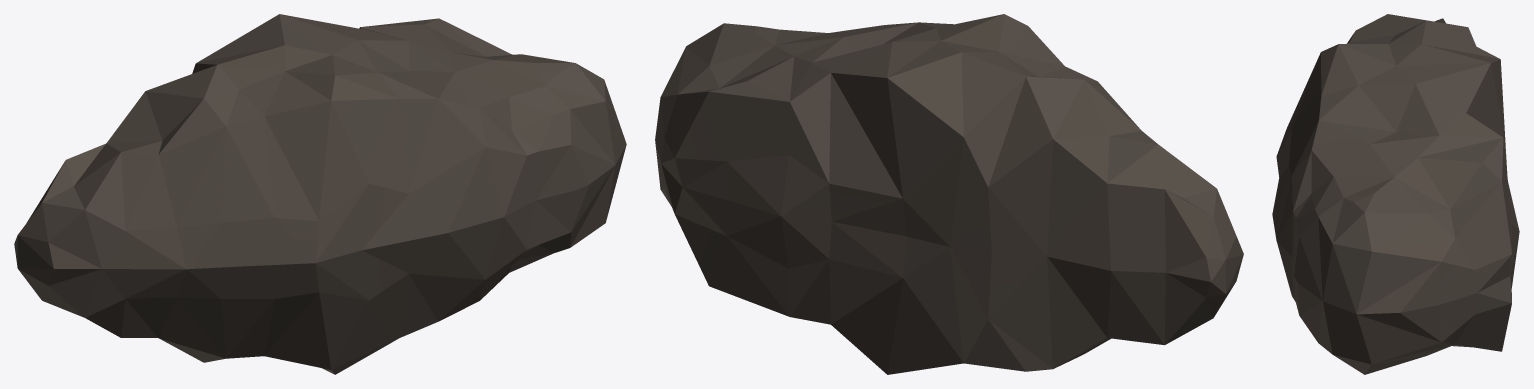
Rendered from StonefishDrip.glb.
3 renders of one model, left to right at view 1: azimuth 30°, elevation 25°; view 2: azimuth 150°, elevation 25°; view 3: azimuth 270°, elevation 25°, orthographic. The views are drawn at different scales.
Visible parts, largest first — view 1: StonefishDrip; view 2: StonefishDrip; view 3: StonefishDrip.
Boxes of the visible parts, bbox=[...] form: StonefishDrip: bbox=[14, 14, 626, 374]; StonefishDrip: bbox=[655, 14, 1243, 374]; StonefishDrip: bbox=[1272, 14, 1519, 374].
Bounding box in the file's own units: 0.6596 × 0.3331 × 0.2737.
1 material, 1 textured.
